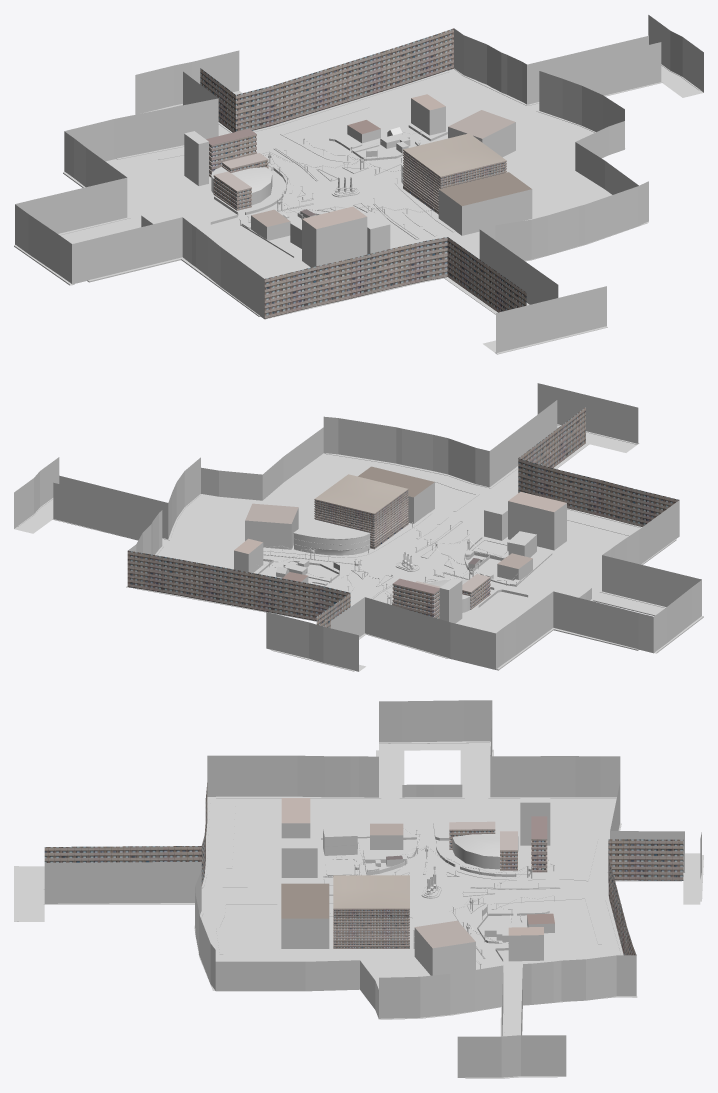
File: 3 Talwaar v4.fbx
The picture shows the model from 3 angles, top to bottom: view 1: azimuth 30°, elevation 25°; view 2: azimuth 150°, elevation 25°; view 3: azimuth 270°, elevation 25°; orthographic projection. The views are drawn at different scales.
Visible parts, largest first — view 1: Building Extensions, Plane.060, Plane.001, Extension, Path Extension, Plane, Plane.003, Plane.061; view 2: Building Extensions, Plane.060, Plane.001, Extension, Path Extension, Plane, Plane.003, Plane.061; view 3: Building Extensions, Extension, Plane.060, Plane.001, Path Extension, Plane.003, Plane.
Boxes of the visible parts, x1=… form: Building Extensions: x1=15, y1=15, x2=703, y2=352; Plane.060: x1=184, y1=94, x2=532, y2=267; Plane.001: x1=136, y1=111, x2=604, y2=274; Extension: x1=60, y1=65, x2=703, y2=352; Path Extension: x1=14, y1=64, x2=699, y2=354; Plane: x1=267, y1=143, x2=455, y2=238; Plane.003: x1=210, y1=125, x2=447, y2=257; Plane.061: x1=273, y1=148, x2=419, y2=239; Building Extensions: x1=14, y1=383, x2=701, y2=671; Plane.060: x1=234, y1=466, x2=566, y2=623; Plane.001: x1=214, y1=482, x2=593, y2=631; Extension: x1=14, y1=425, x2=664, y2=671; Path Extension: x1=18, y1=424, x2=703, y2=671; Plane: x1=263, y1=512, x2=484, y2=600; Plane.003: x1=257, y1=537, x2=552, y2=607; Plane.061: x1=263, y1=521, x2=469, y2=599; Building Extensions: x1=44, y1=700, x2=701, y2=1077; Extension: x1=17, y1=741, x2=700, y2=1036; Plane.060: x1=281, y1=797, x2=554, y2=975; Plane.001: x1=288, y1=822, x2=575, y2=988; Path Extension: x1=14, y1=741, x2=703, y2=1078; Plane.003: x1=321, y1=823, x2=549, y2=961; Plane: x1=329, y1=859, x2=559, y2=969.
Bounding box in the file's own units: 537 × 32.62 × 464.
